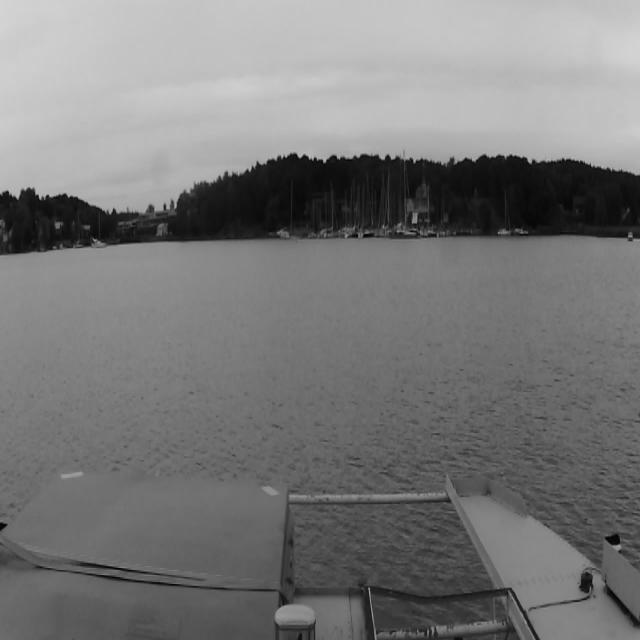ship: (389, 150, 417, 238), (321, 180, 339, 238), (420, 180, 438, 238), (375, 166, 389, 238), (360, 174, 374, 238), (345, 176, 359, 238), (498, 189, 512, 235), (278, 226, 290, 239), (514, 228, 528, 235)
